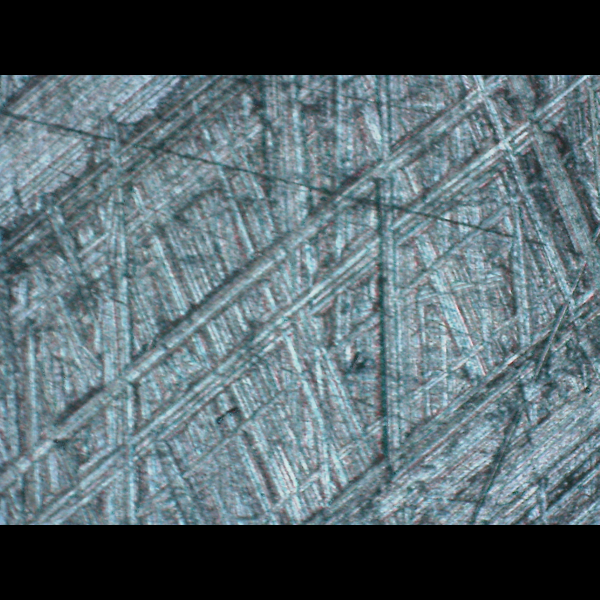d: (54, 93, 533, 505)
